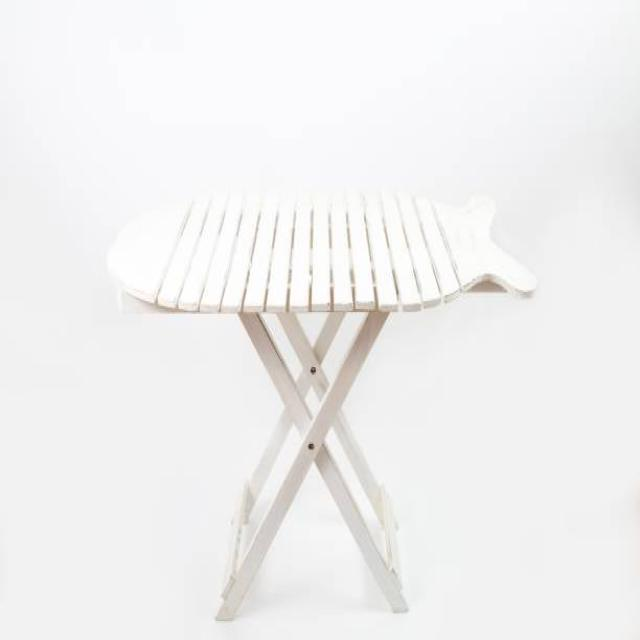table: (106, 182, 536, 621)
